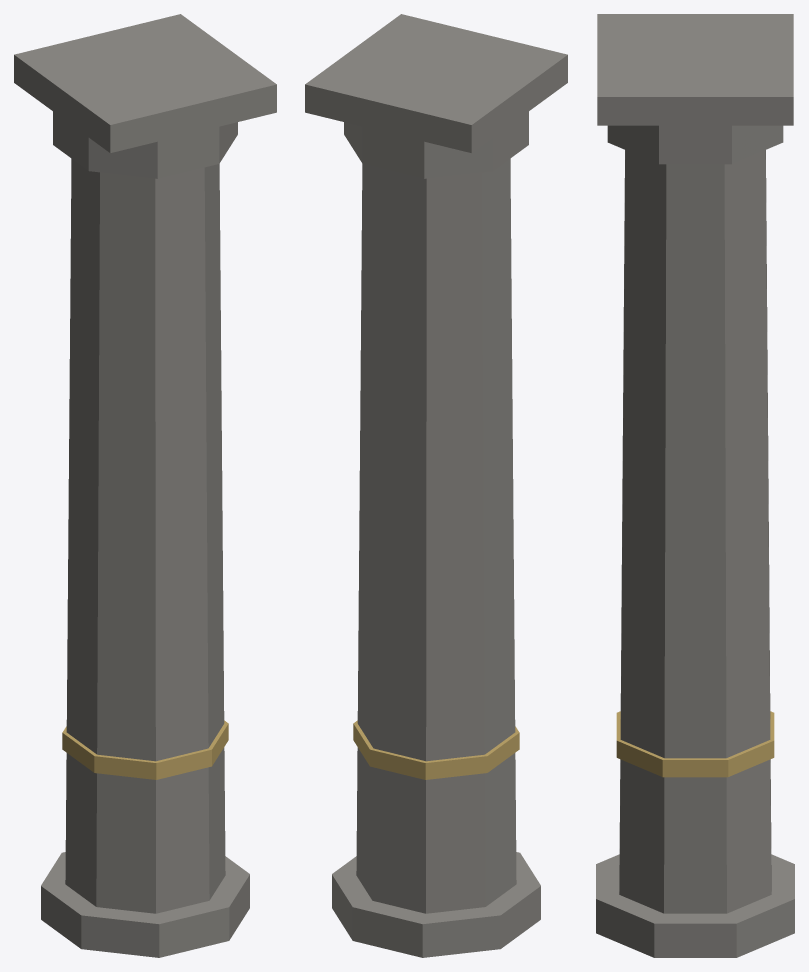
File: pillar.glb
3 renders of one model, left to right at view 1: azimuth 30°, elevation 25°; view 2: azimuth 150°, elevation 25°; view 3: azimuth 270°, elevation 25°, orthographic.
Parts seen in each view (by area): view 1: Pillar; view 2: Pillar; view 3: Pillar.
Boxes of the visible parts, box(x1,y1,x2,y2) form: Pillar: box(14, 14, 276, 957); Pillar: box(305, 14, 567, 957); Pillar: box(596, 14, 794, 957).
Size of the model in its own units: 0.6282 by 3 by 0.6282.
